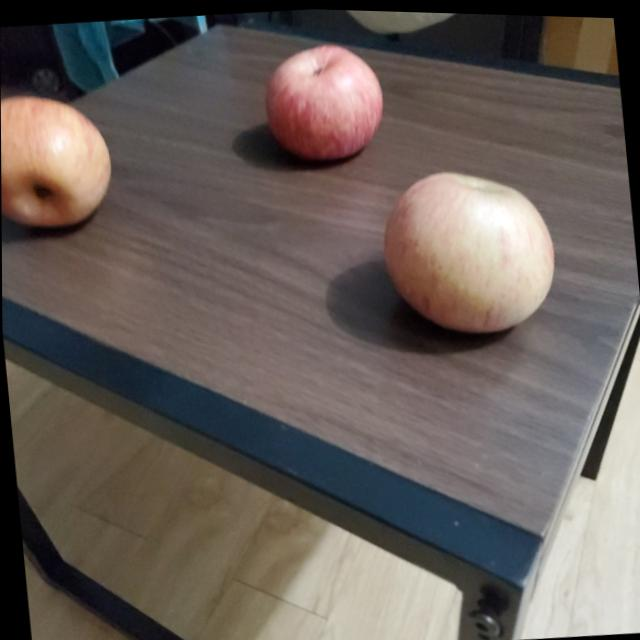apple: (377, 156, 565, 342), (1, 88, 112, 231), (262, 35, 387, 161)
